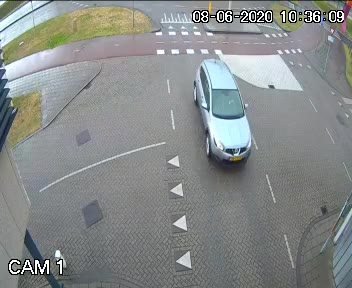car: (189, 47, 249, 175)
